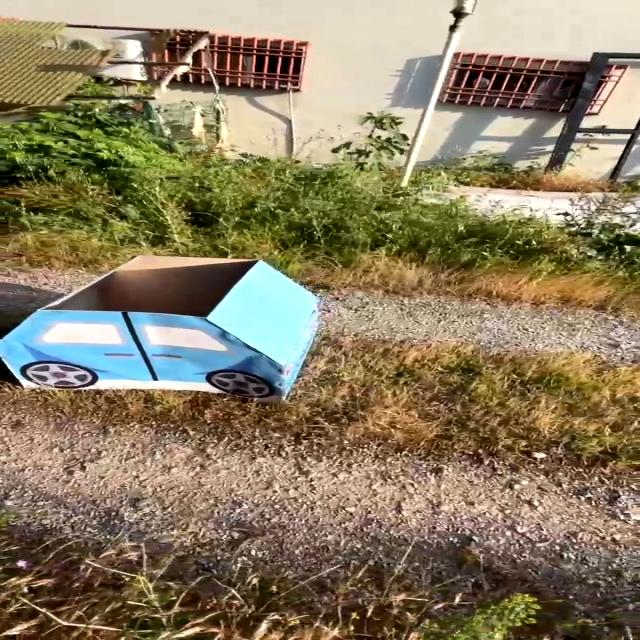blue_car: (0, 235, 357, 431)
